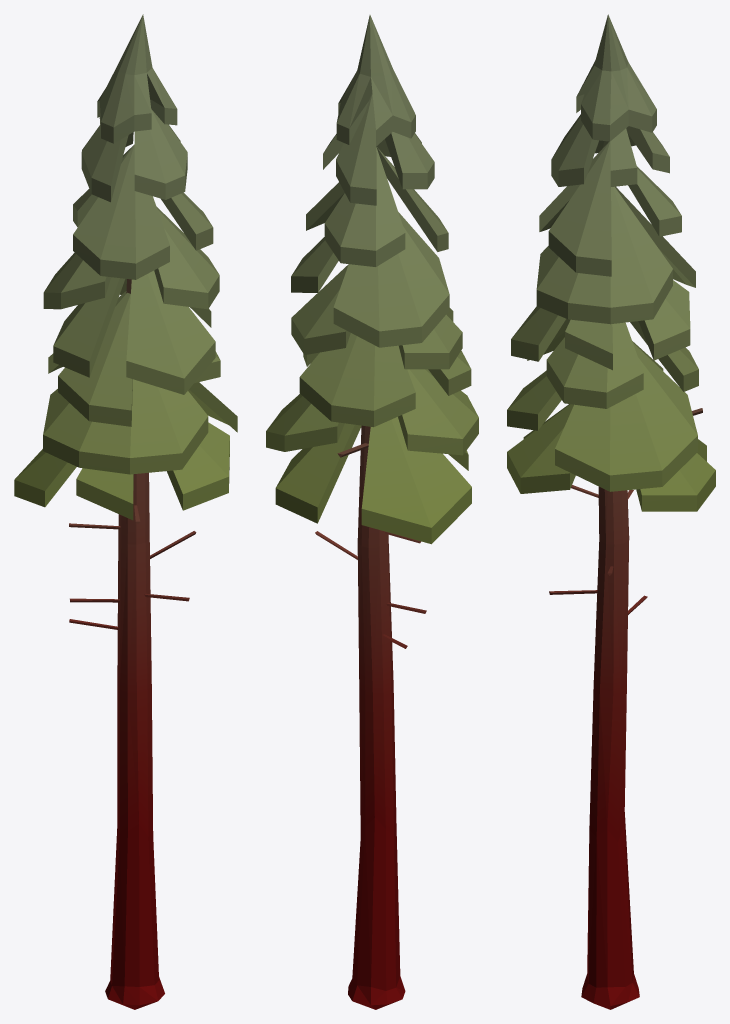
The model's file is synty-tree-polypine-sparse-01.gltf.
The picture shows the model from 3 angles, left to right: view 1: azimuth 30°, elevation 25°; view 2: azimuth 150°, elevation 25°; view 3: azimuth 270°, elevation 25°; orthographic projection.
Visible parts, largest first — view 1: SM_Tree_PolyPine_Sparse_01; view 2: SM_Tree_PolyPine_Sparse_01; view 3: SM_Tree_PolyPine_Sparse_01.
Boxes of the visible parts, box(x1,y1,x2,y2) form: SM_Tree_PolyPine_Sparse_01: box(14, 14, 237, 1009); SM_Tree_PolyPine_Sparse_01: box(266, 15, 478, 1009); SM_Tree_PolyPine_Sparse_01: box(507, 14, 715, 1009).
Size of the model in its own units: 1.56 by 7.93 by 1.5.
1 material, 1 textured.
